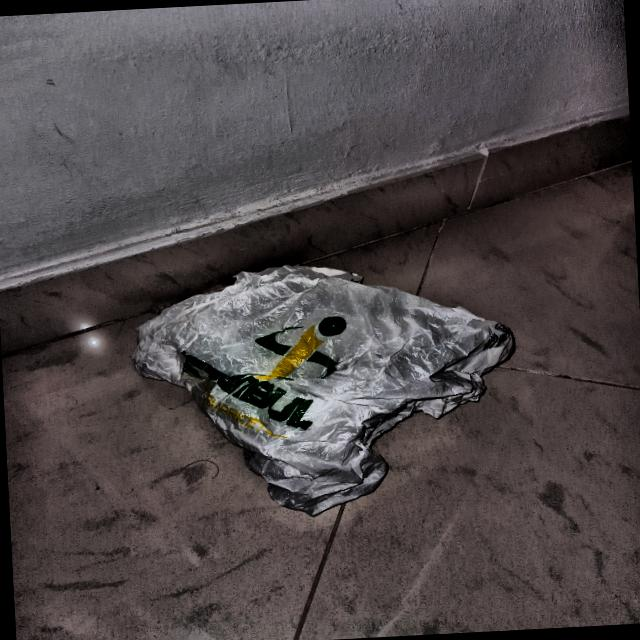plastic bag: (132, 253, 538, 518)
